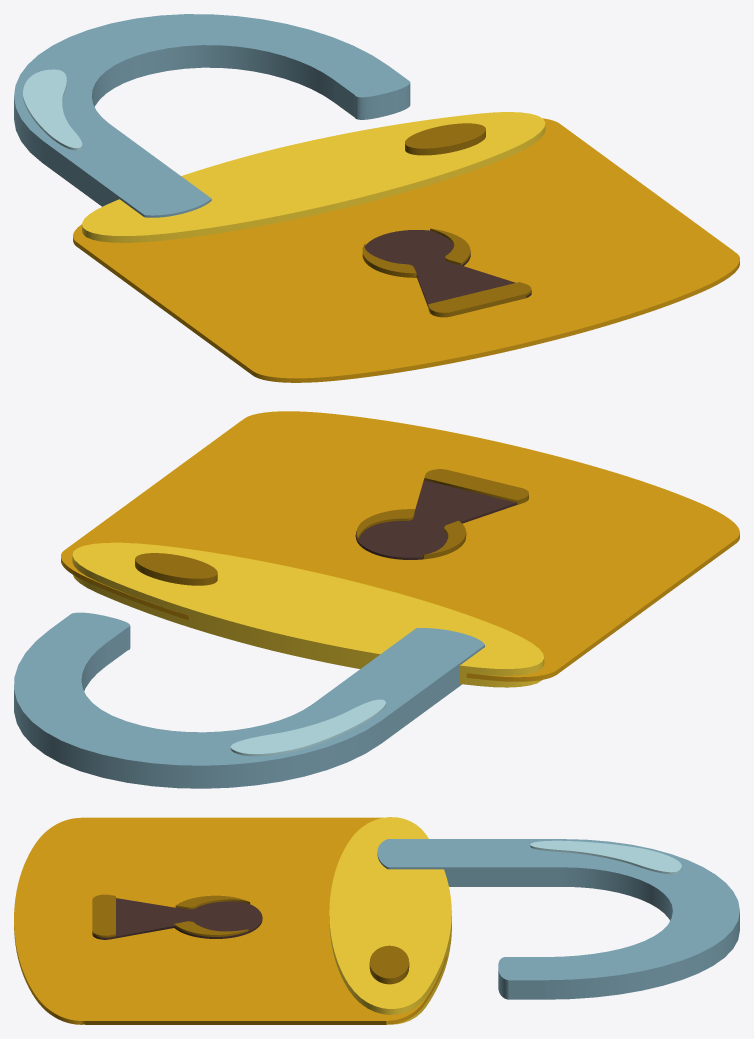
File: emoji_u1f513.glb
3 views of the same model, one above another, from view 1: azimuth 30°, elevation 25°; view 2: azimuth 150°, elevation 25°; view 3: azimuth 270°, elevation 25° (orthographic). The views are drawn at different scales.
Parts seen in each view (by area): view 1: emoji_u1f513; view 2: emoji_u1f513; view 3: emoji_u1f513.
Part boxes in pixels (left/top/right/bottom): emoji_u1f513: left=14, top=14, right=739, bottom=382; emoji_u1f513: left=14, top=411, right=739, bottom=788; emoji_u1f513: left=14, top=817, right=739, bottom=1024.
Size of the model in its own units: 0.0224 by 0.0014 by 0.0338.
